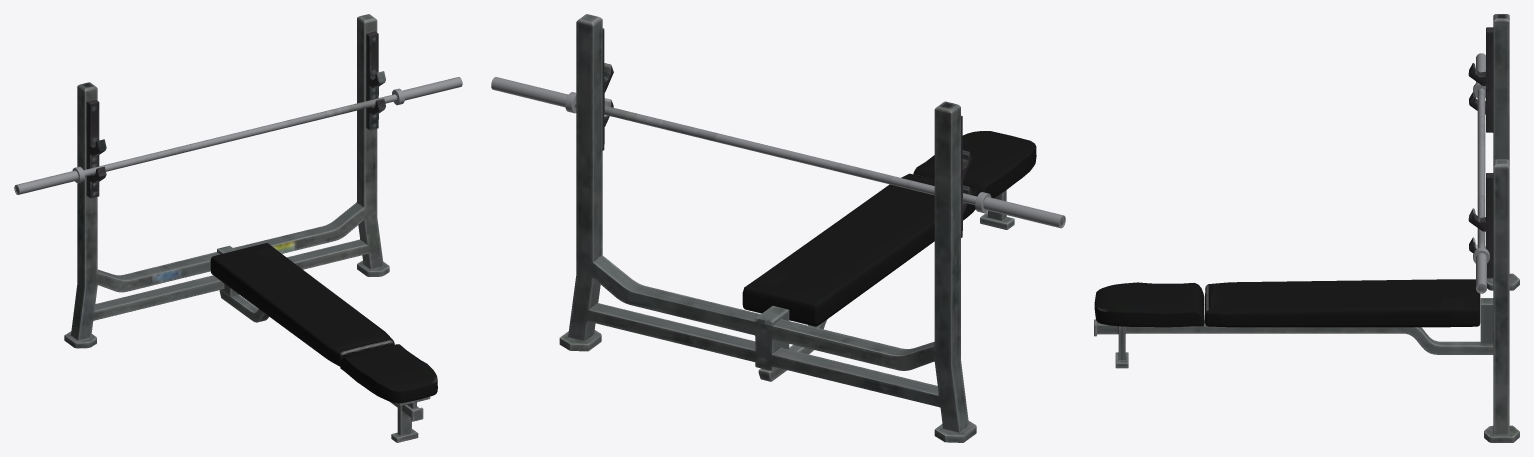
Rendered from flat-bench.glb.
3 renders of one model, left to right at view 1: azimuth 30°, elevation 25°; view 2: azimuth 150°, elevation 25°; view 3: azimuth 270°, elevation 25°, orthographic. The views are drawn at different scales.
Visible parts, largest first — view 1: Cube.034_flat bench_0, Cube.033_flat bench_0, BARBELL low.002_20kg barbell_0, Cube.032_flat bench_0; view 2: Cube.034_flat bench_0, Cube.033_flat bench_0, BARBELL low.002_20kg barbell_0, Cube.032_flat bench_0; view 3: Cube.034_flat bench_0, Cube.033_flat bench_0, Cube.032_flat bench_0, BARBELL low.002_20kg barbell_0.
Part boxes in pixels (<box>): Cube.034_flat bench_0: <box>64,14,430,442</box>; Cube.033_flat bench_0: <box>210,243,394,366</box>; BARBELL low.002_20kg barbell_0: <box>14,77,462,194</box>; Cube.032_flat bench_0: <box>340,344,437,403</box>; Cube.034_flat bench_0: <box>559,14,1014,442</box>; Cube.033_flat bench_0: <box>742,173,978,326</box>; BARBELL low.002_20kg barbell_0: <box>491,77,1065,228</box>; Cube.032_flat bench_0: <box>913,131,1036,198</box>; Cube.034_flat bench_0: <box>1094,14,1519,442</box>; Cube.033_flat bench_0: <box>1205,279,1480,327</box>; Cube.032_flat bench_0: <box>1094,282,1204,327</box>; BARBELL low.002_20kg barbell_0: <box>1473,53,1489,293</box>.
Size of the model in its own units: 2.44 by 1.35 by 1.9.
Materials: 2 (2 with a texture image).
